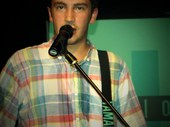face: (52, 1, 88, 43)
